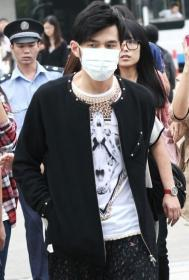NONE: (118, 39, 143, 67), (16, 42, 39, 64)
OK: (80, 37, 123, 80)
